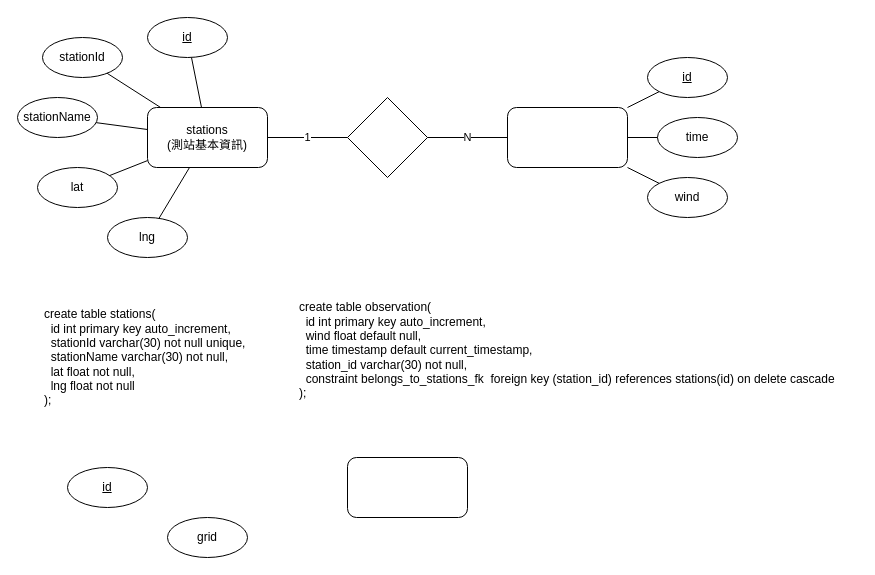
Some shapes in this 875 by 575 pixel diagram are drawn without their labels. The centre of each missing label's shape, as x and y in pixels:
has: [387,137]
idw: [407,487]
observation (監測資料): [567,137]
